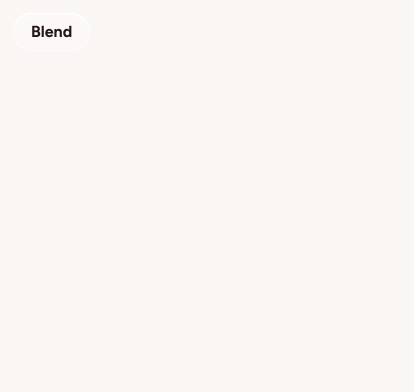
it: Blend on a profile › Blend saves the playlist, plays it, and lists whose likes each song came from
Click the button "Blend".
click(52, 32)  # box [12,12,91,52]
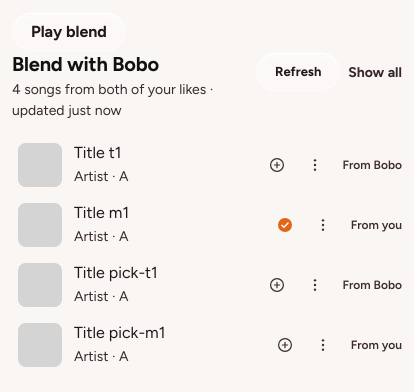
Check: the element named "Your blend" is shown
Check: the heading "Blend with Bobo" is shown, box [12,52,159,76]
Check: the element named "Your blend" shows "From Bobo", box [342,158,402,172]
